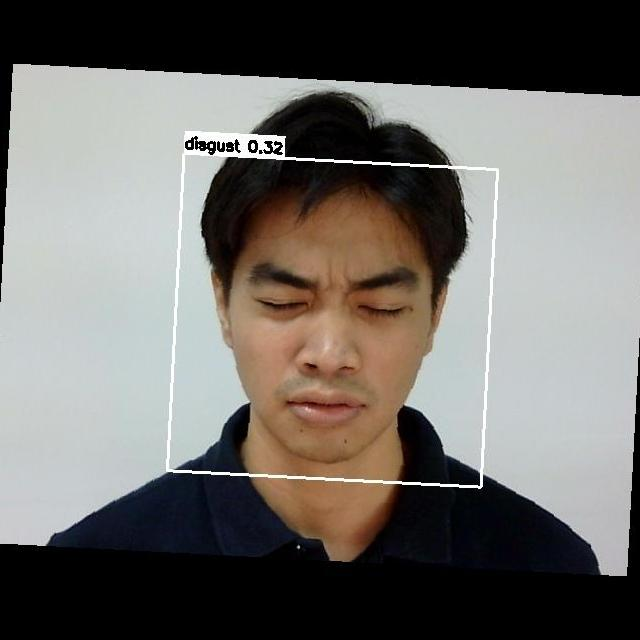Angry: (225, 233, 442, 437)
